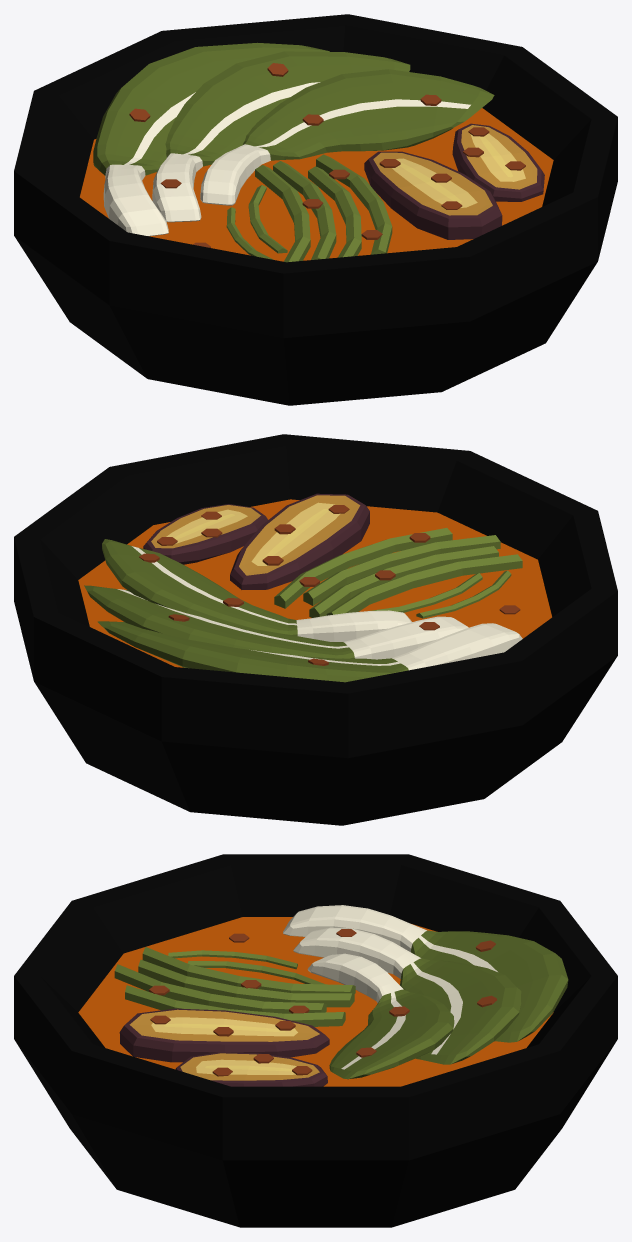
File: FINAL_Vegetable Karekare.fbx
The picture shows the model from 3 angles, top to bottom: view 1: azimuth 30°, elevation 25°; view 2: azimuth 150°, elevation 25°; view 3: azimuth 270°, elevation 25°; orthographic projection. The views are drawn at different scales.
Visible parts, largest first — view 1: Vegetable Kare-Kare; view 2: Vegetable Kare-Kare; view 3: Vegetable Kare-Kare.
Part boxes in pixels (x1,y1,x2,y2): Vegetable Kare-Kare: (14,14,617,405); Vegetable Kare-Kare: (14,434,617,825); Vegetable Kare-Kare: (14,854,617,1227).
Size of the model in its own units: 106 by 39.33 by 111.
